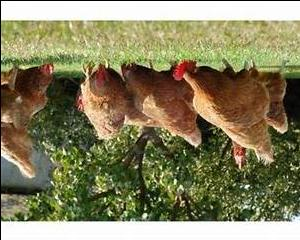hen: (172, 58, 276, 167), (120, 59, 202, 148), (1, 60, 54, 178)
